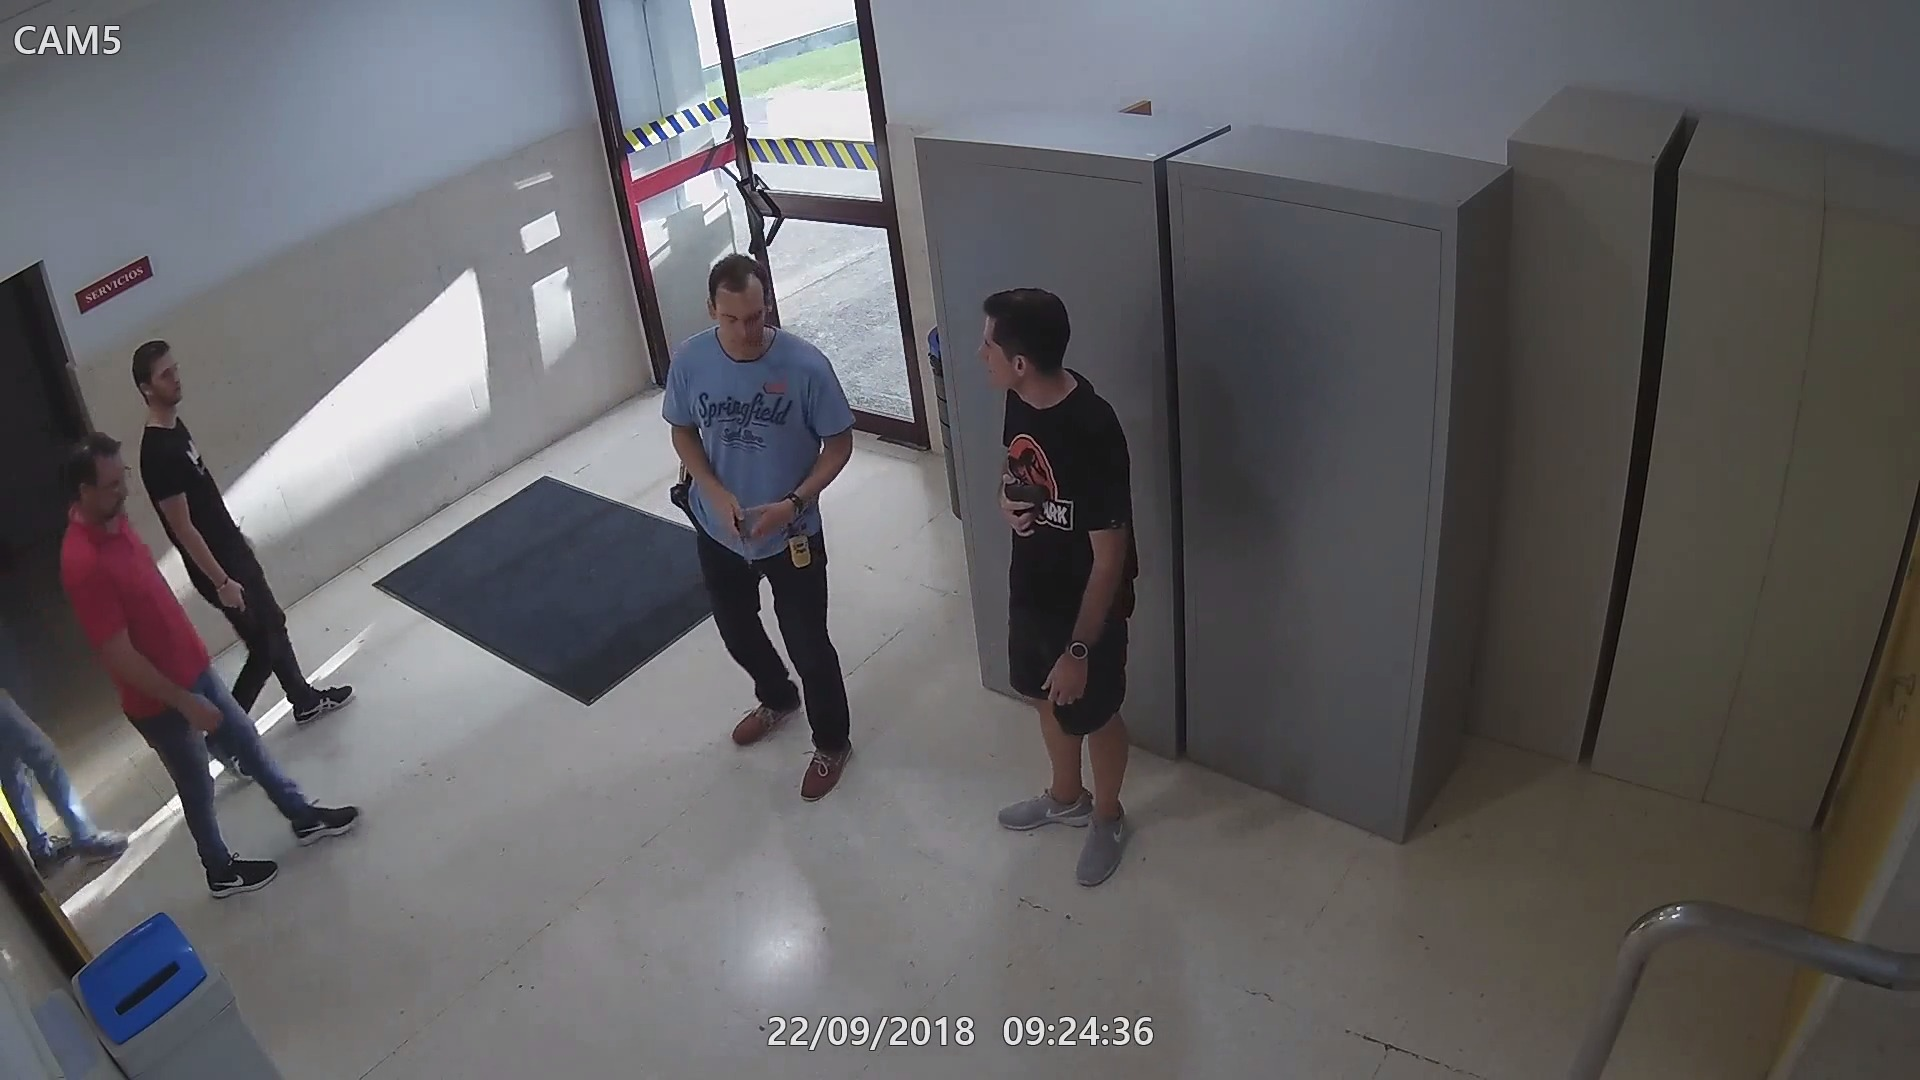Handgun: (997, 477, 1052, 543), (214, 576, 262, 630), (665, 450, 696, 529)
Knife: (717, 485, 757, 568)
